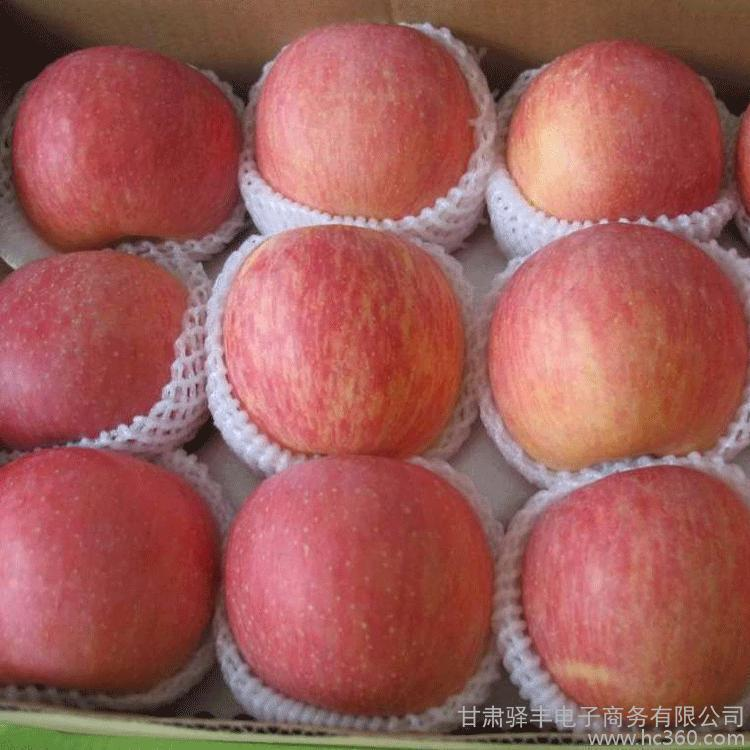apple: (220, 460, 499, 724), (480, 248, 745, 500), (511, 477, 749, 743), (214, 228, 471, 467), (1, 447, 221, 706), (246, 20, 492, 250), (5, 41, 248, 256), (508, 36, 743, 246), (1, 270, 202, 479), (3, 251, 180, 440)
